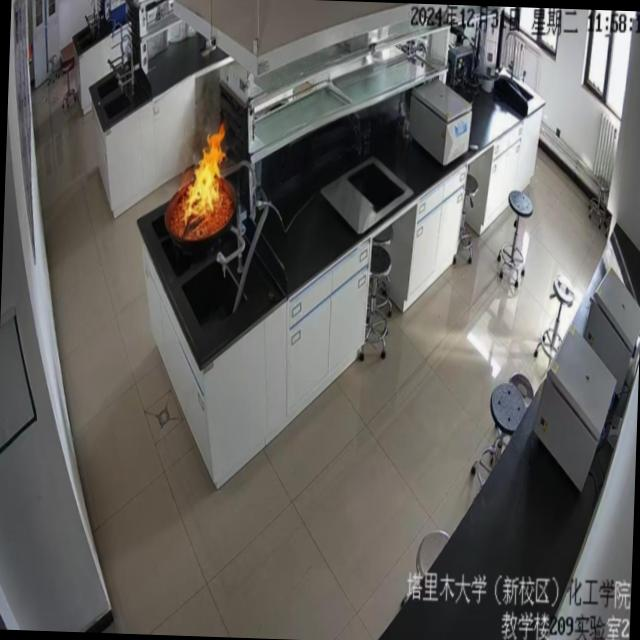fire: (177, 120, 235, 227)
